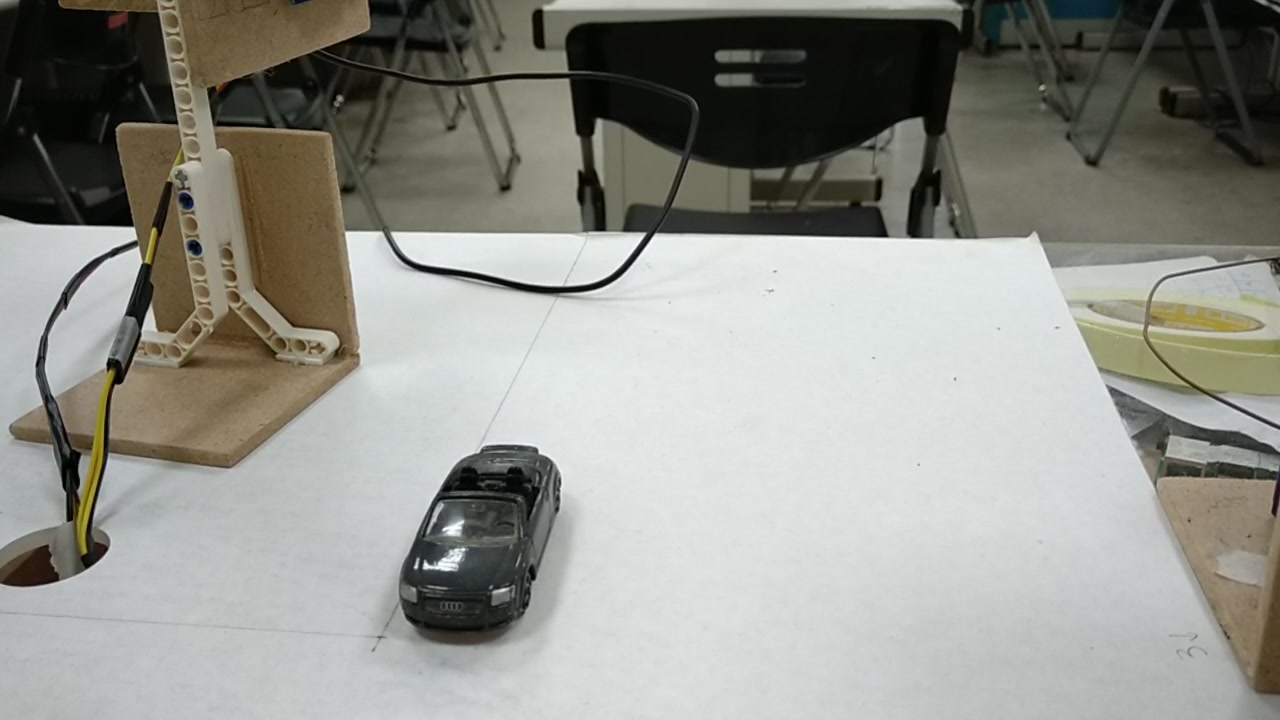car: (393, 449, 571, 628)
